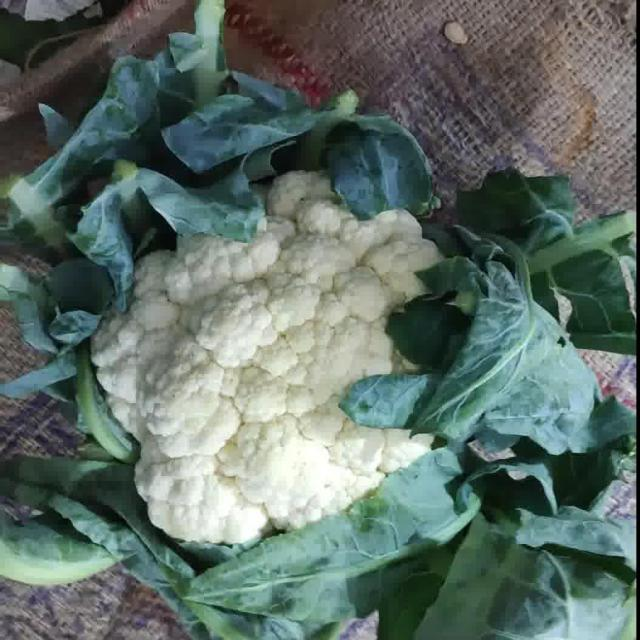Cauliflower: (90, 167, 459, 548)
